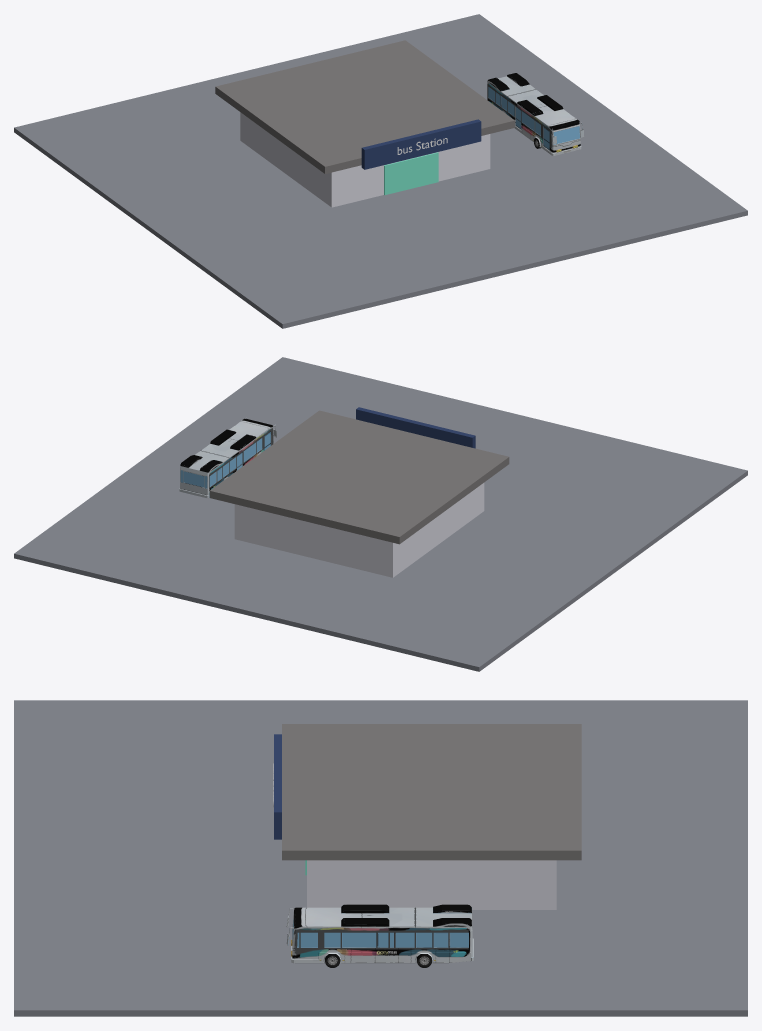
The model's file is bus_station.fbx.
The picture shows the model from 3 angles, top to bottom: view 1: azimuth 30°, elevation 25°; view 2: azimuth 150°, elevation 25°; view 3: azimuth 270°, elevation 25°; orthographic projection. The views are drawn at different scales.
Parts seen in each view (by area): view 1: ground, station, bus; view 2: ground, station, bus; view 3: ground, station, bus.
Part boxes in pixels (x1,y1,x2,y2): ground: [14, 14, 747, 328]; station: [215, 40, 514, 207]; bus: [487, 73, 584, 155]; ground: [14, 357, 747, 671]; station: [209, 407, 509, 577]; bus: [179, 418, 276, 498]; ground: [14, 700, 747, 1016]; station: [274, 724, 581, 909]; bus: [286, 904, 473, 963].
Size of the model in its own units: 5200 by 5200 by 705.
8 materials, 3 textured.
